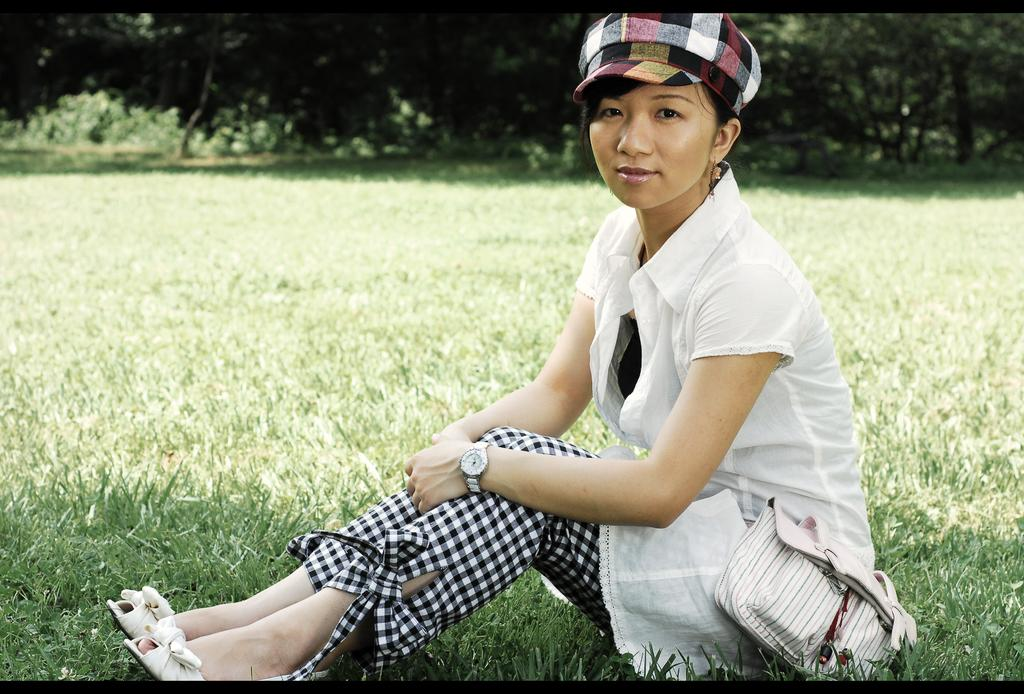Hat: (576, 13, 768, 136)
